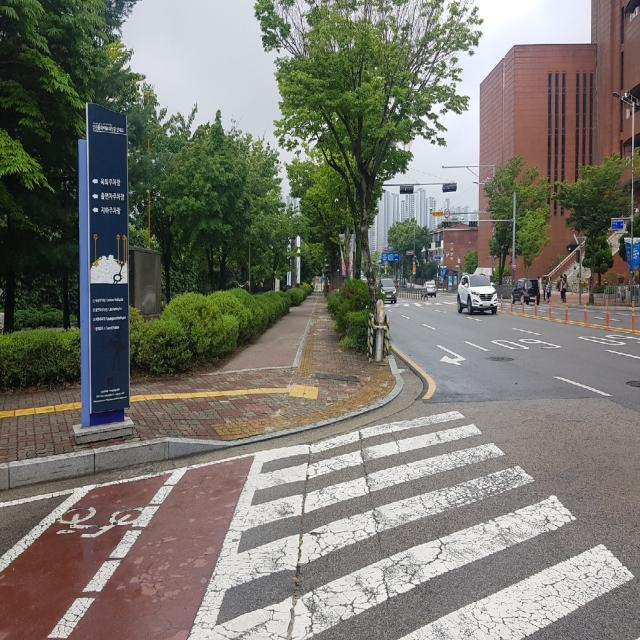횡단보도: (212, 407, 637, 640)
